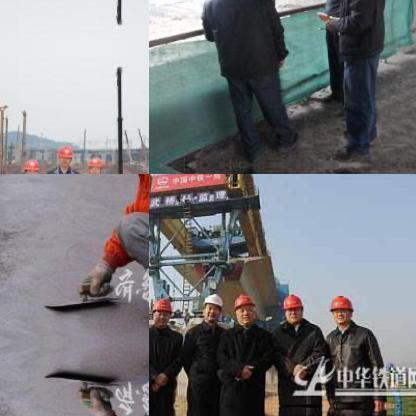Helmet: (325, 292, 355, 324), (230, 290, 258, 324), (279, 290, 305, 324), (149, 294, 173, 327), (200, 289, 223, 321), (54, 142, 74, 168), (85, 154, 105, 173), (21, 156, 41, 173)
